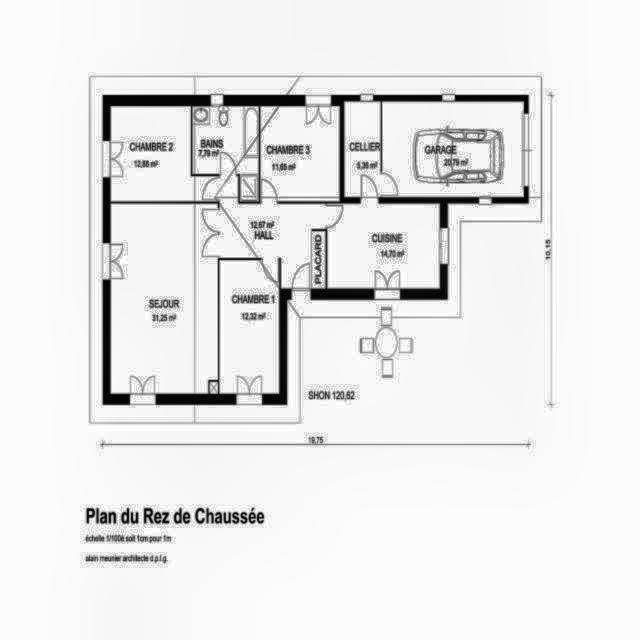room: (111, 203, 218, 394), (382, 101, 524, 197), (219, 176, 326, 289), (111, 106, 218, 202), (327, 203, 440, 289), (219, 260, 279, 394), (260, 106, 340, 202), (192, 106, 259, 202), (344, 101, 381, 197)
